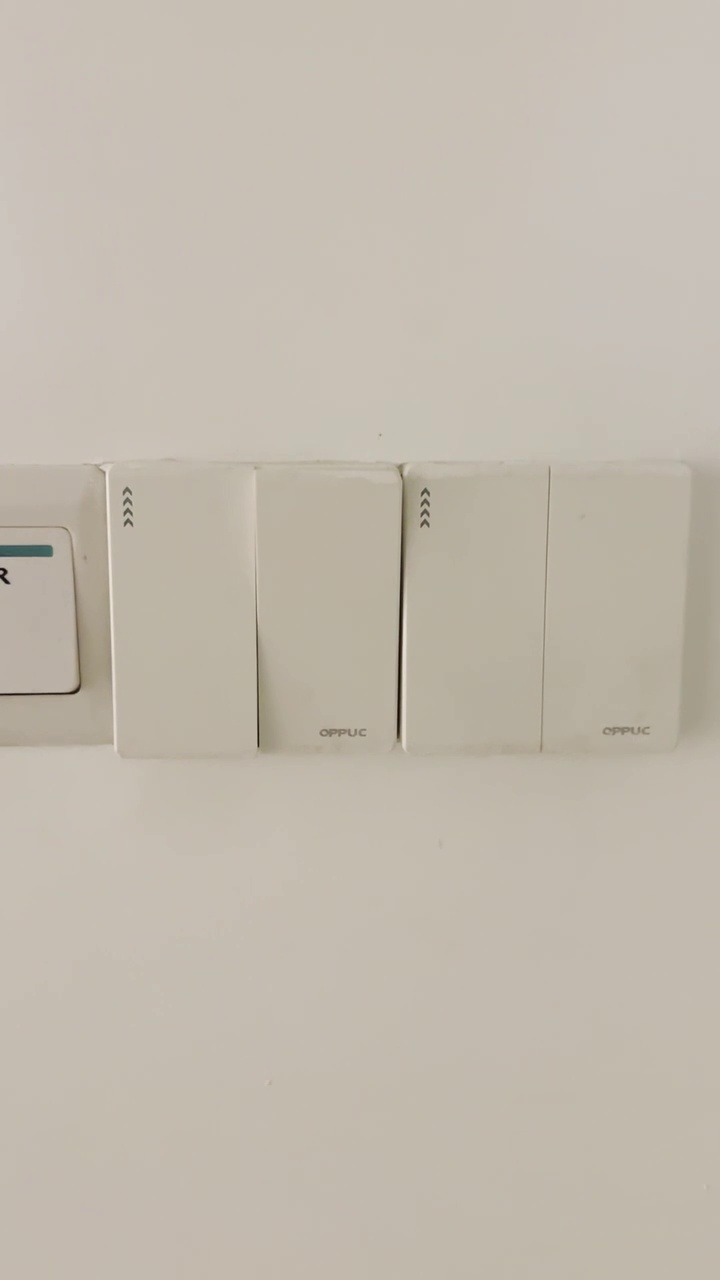button1: (113, 469, 252, 747), (551, 468, 675, 746), (410, 471, 532, 751), (265, 473, 390, 744)
